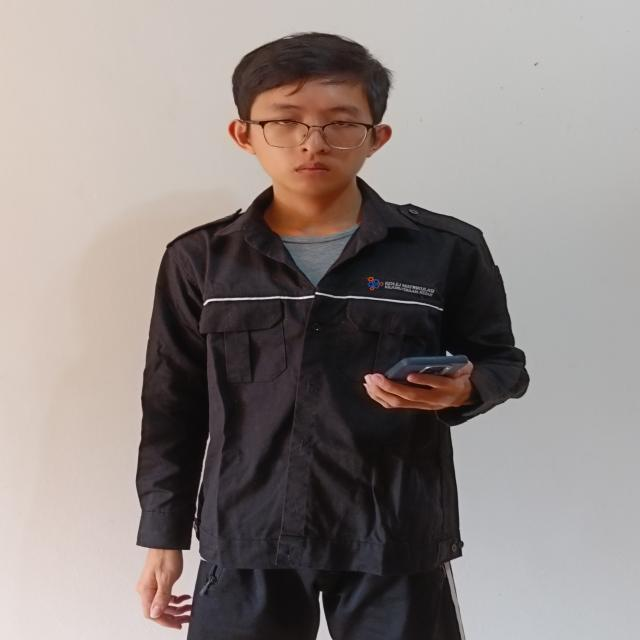person_with_labcoat: (136, 33, 528, 640)
